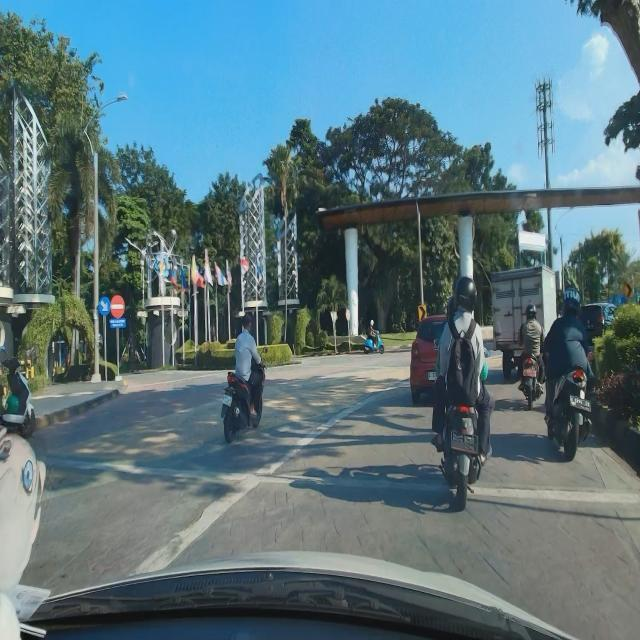car: (407, 308, 467, 405)
truck: (489, 262, 564, 386)
